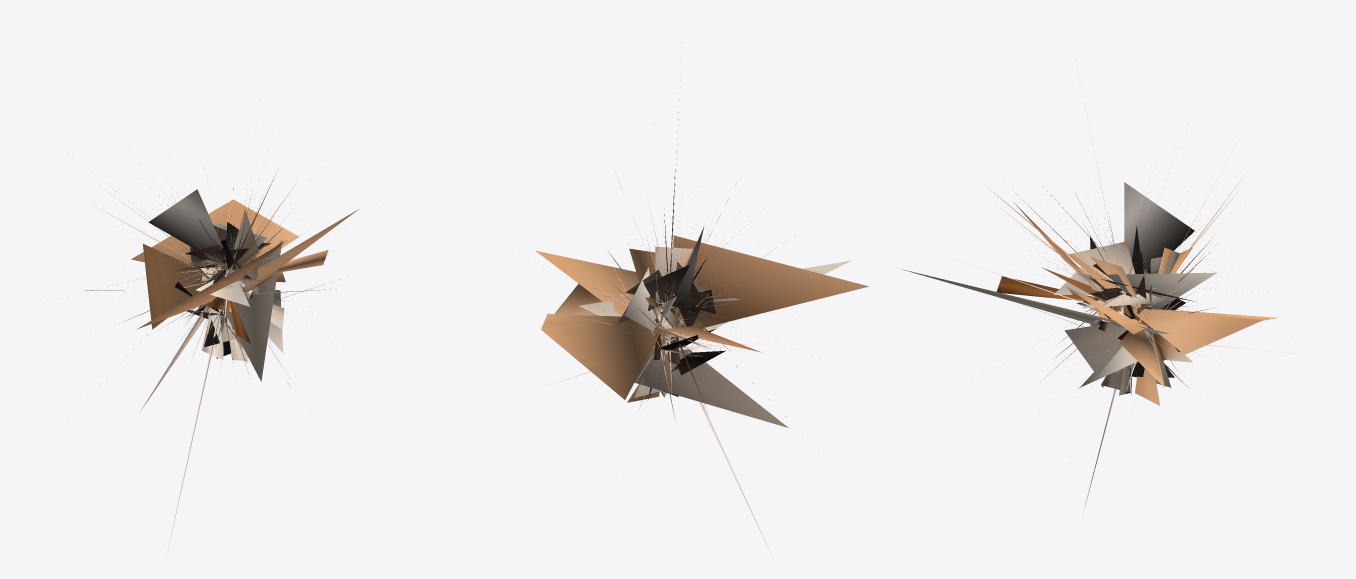
The model's file is maha-portrait.glb.
3 renders of one model, left to right at view 1: azimuth 30°, elevation 25°; view 2: azimuth 150°, elevation 25°; view 3: azimuth 270°, elevation 25°, orthographic. The views are drawn at different scales.
Bounding box in the file's own units: 0.1254 × 0.1754 × 0.1263.
Materials: 1 (1 with a texture image).
